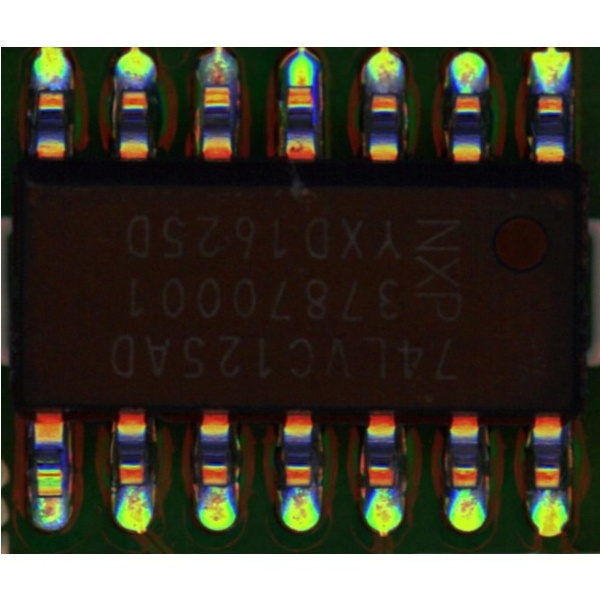Bad_podu: (37, 481, 59, 514), (288, 76, 311, 92)
